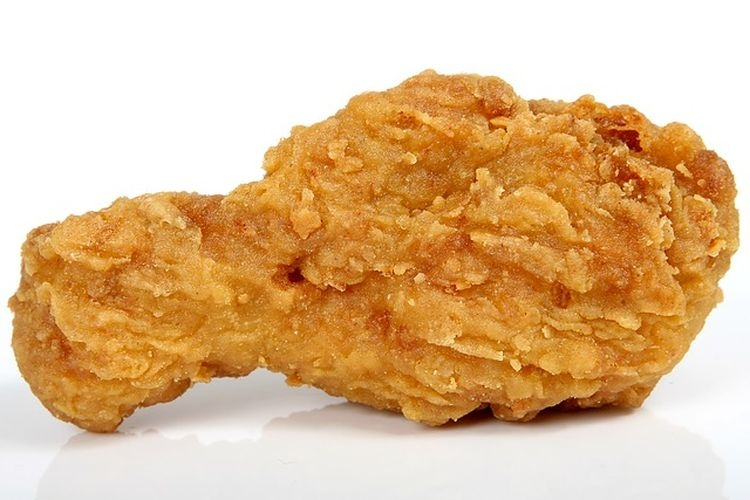ayam_goreng: (15, 48, 745, 450)
